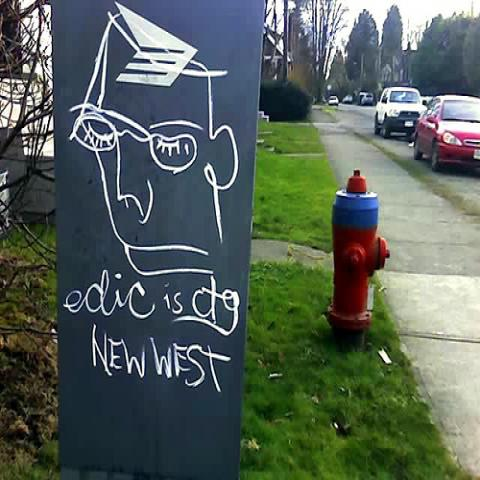car: (414, 92, 479, 172), (374, 87, 424, 138), (360, 94, 373, 106), (342, 94, 354, 103), (328, 96, 338, 105)
